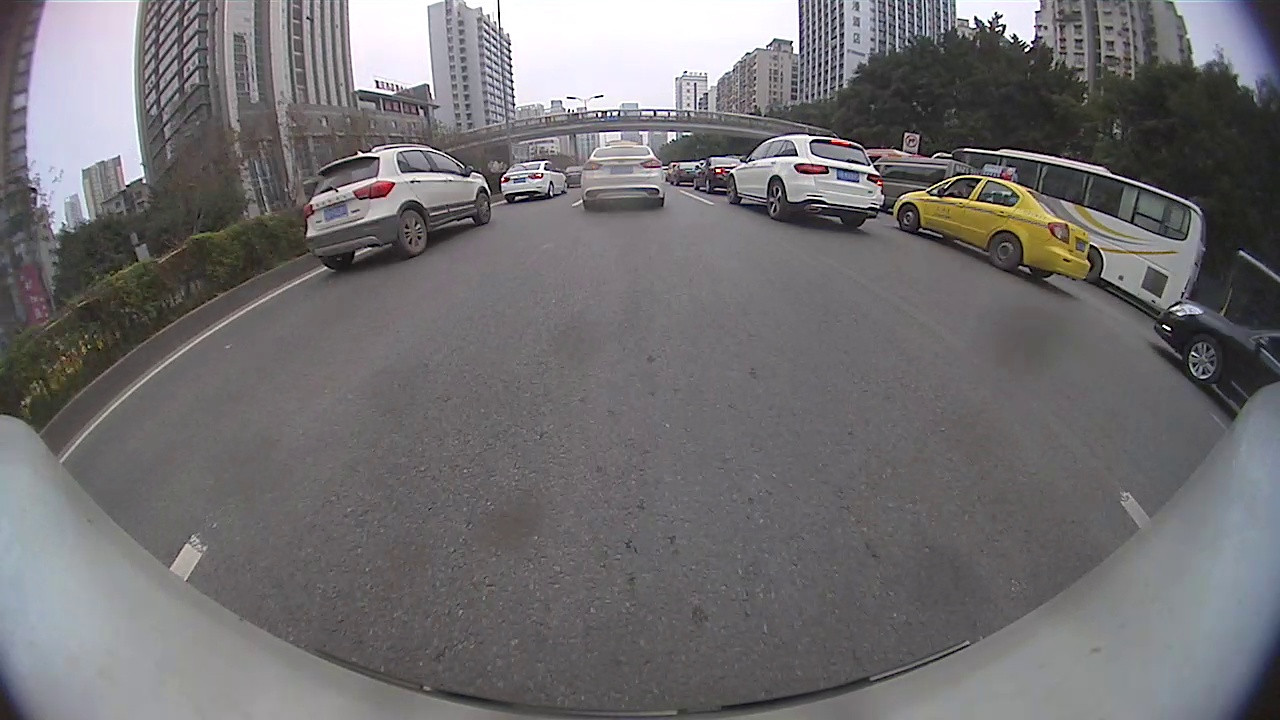bus: (931, 145, 1206, 314)
car: (303, 142, 493, 271), (897, 172, 1092, 282), (730, 135, 889, 230), (1155, 298, 1279, 411), (583, 143, 665, 209), (503, 161, 569, 198)
front: (1181, 331, 1224, 385), (897, 202, 921, 233), (474, 190, 492, 225), (728, 176, 741, 205)
rear: (393, 209, 428, 259), (987, 231, 1023, 272), (765, 176, 787, 221)
